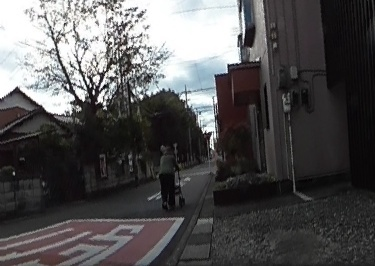person: (154, 144, 181, 212)
